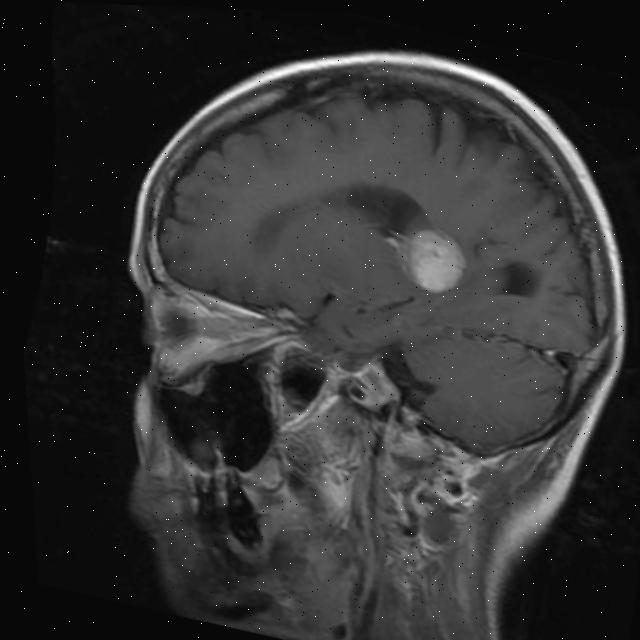Meningioma: (374, 217, 475, 301)
